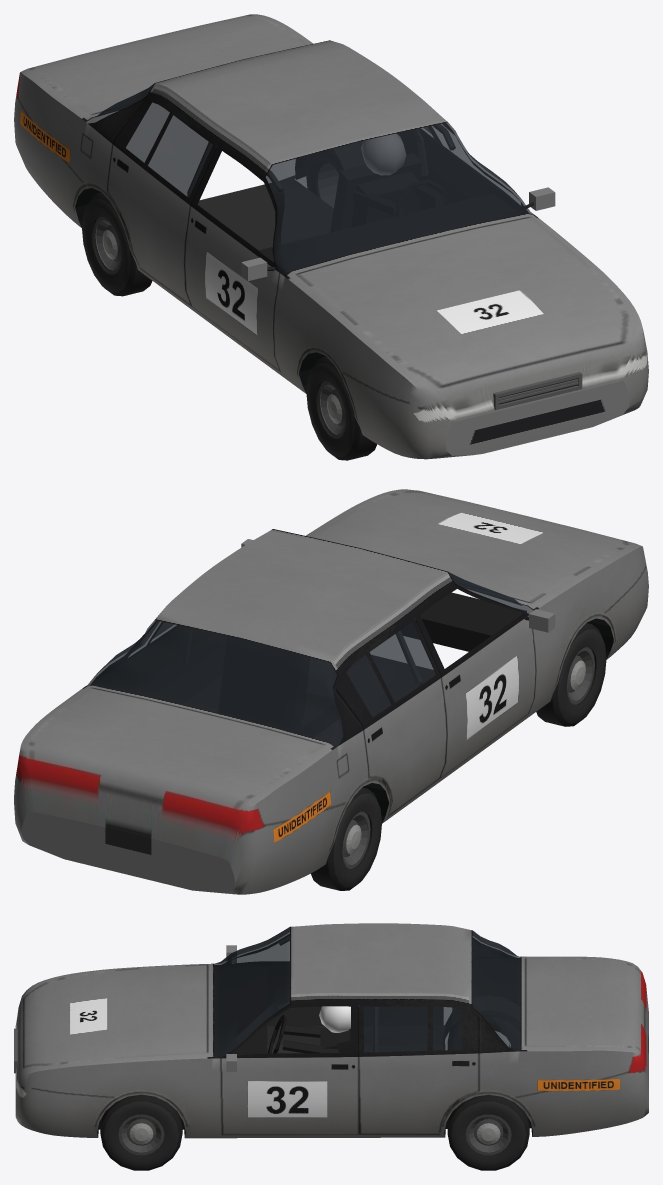
3 views of the same model, one above another, from view 1: azimuth 30°, elevation 25°; view 2: azimuth 150°, elevation 25°; view 3: azimuth 270°, elevation 25° (orthographic). The views are drawn at different scales.
Visible parts, largest first — view 1: body, wheel_fr, wheel_rr, wheel_rl; view 2: body, wheel_rr, wheel_fr; view 3: body, wheel_fl, wheel_rl, wheel_rr.
Boxes of the visible parts, x1=… form: body: x1=14, y1=14, x2=648, y2=459; wheel_fr: x1=306, y1=356, x2=376, y2=460; wheel_rr: x1=82, y1=192, x2=152, y2=296; wheel_rl: x1=306, y1=149, x2=343, y2=207; body: x1=14, y1=489, x2=648, y2=894; wheel_rr: x1=311, y1=787, x2=381, y2=890; wheel_fr: x1=536, y1=623, x2=606, y2=726; body: x1=14, y1=923, x2=648, y2=1138; wheel_fl: x1=100, y1=1094, x2=182, y2=1170; wheel_rl: x1=447, y1=1094, x2=529, y2=1170; wheel_rr: x1=448, y1=1010, x2=519, y2=1050.
Size of the model in its own units: 2.07 by 1.41 by 4.79.
Materials: 3 (2 with a texture image).
